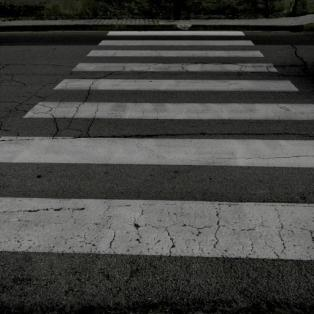Paso de Cebra: (0, 132, 314, 264), (42, 60, 303, 97), (89, 29, 264, 48)
